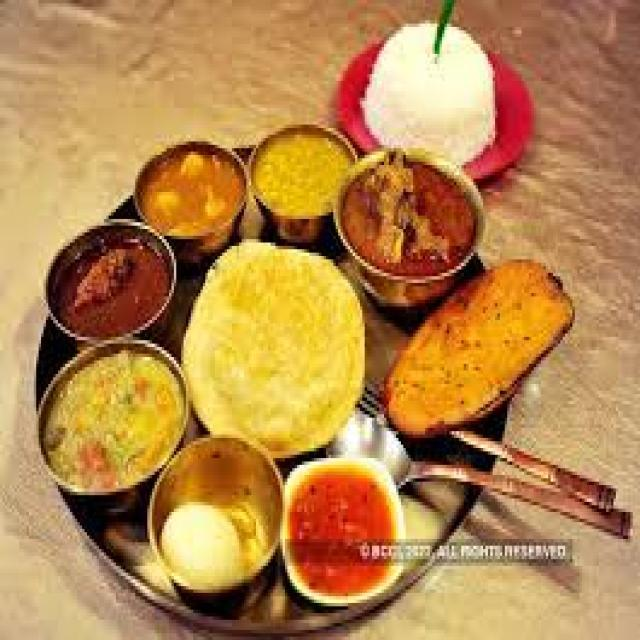dal: (191, 249, 356, 446), (43, 347, 170, 492)
papad: (382, 255, 580, 447), (189, 244, 359, 444)
pickle: (47, 229, 181, 345)
veg-fry: (331, 142, 492, 311), (49, 229, 180, 346)
